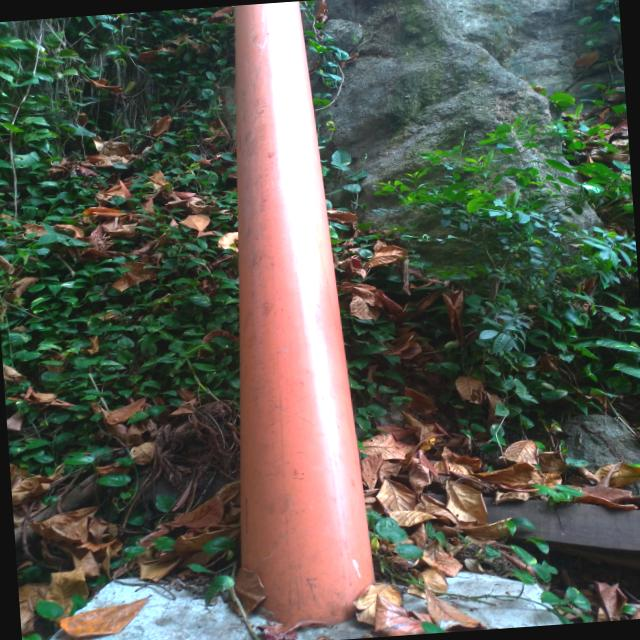gas: (234, 1, 381, 590)
